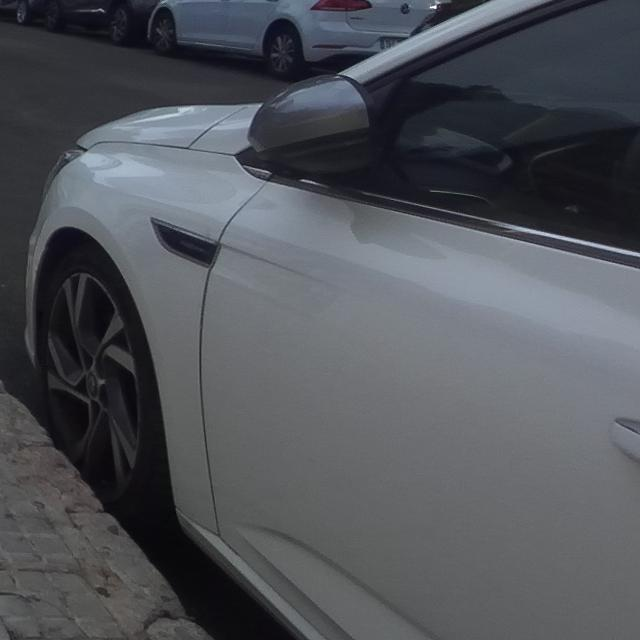calcada_quebrada: (0, 578, 90, 640)
